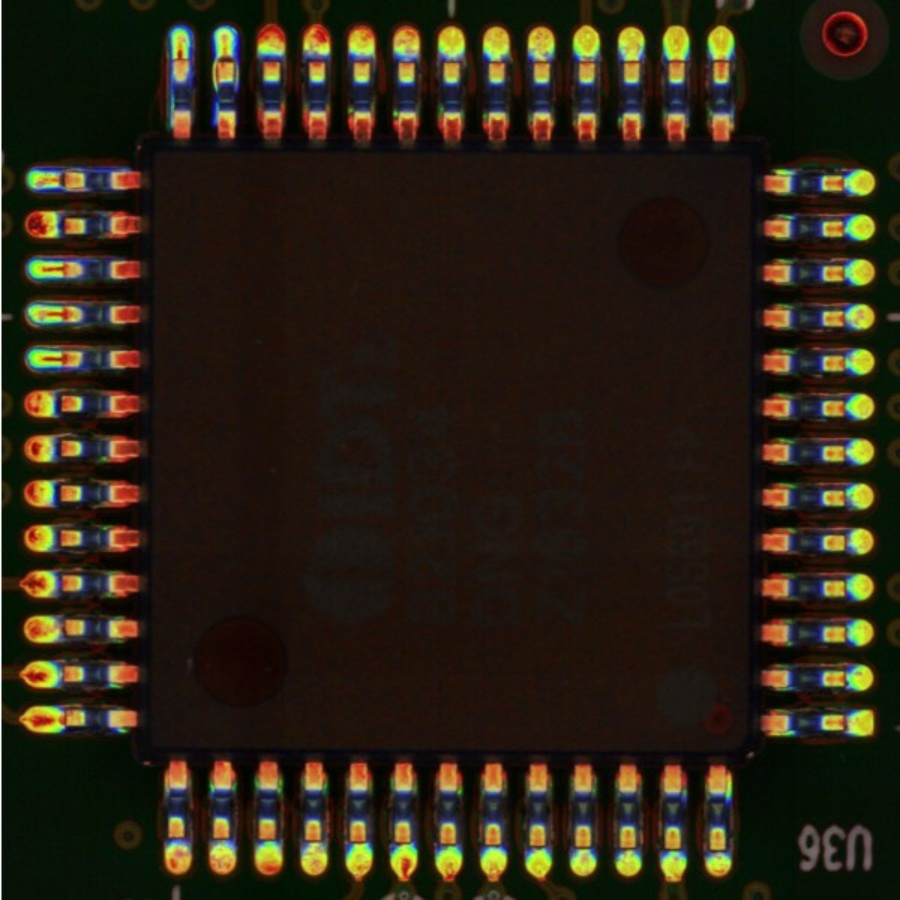Bad_podu: (41, 263, 78, 275), (41, 353, 75, 366), (42, 308, 78, 320), (43, 175, 76, 185), (173, 47, 186, 70), (218, 44, 232, 65)
Bad_qiaojiao: (212, 59, 218, 96), (233, 61, 239, 96)
